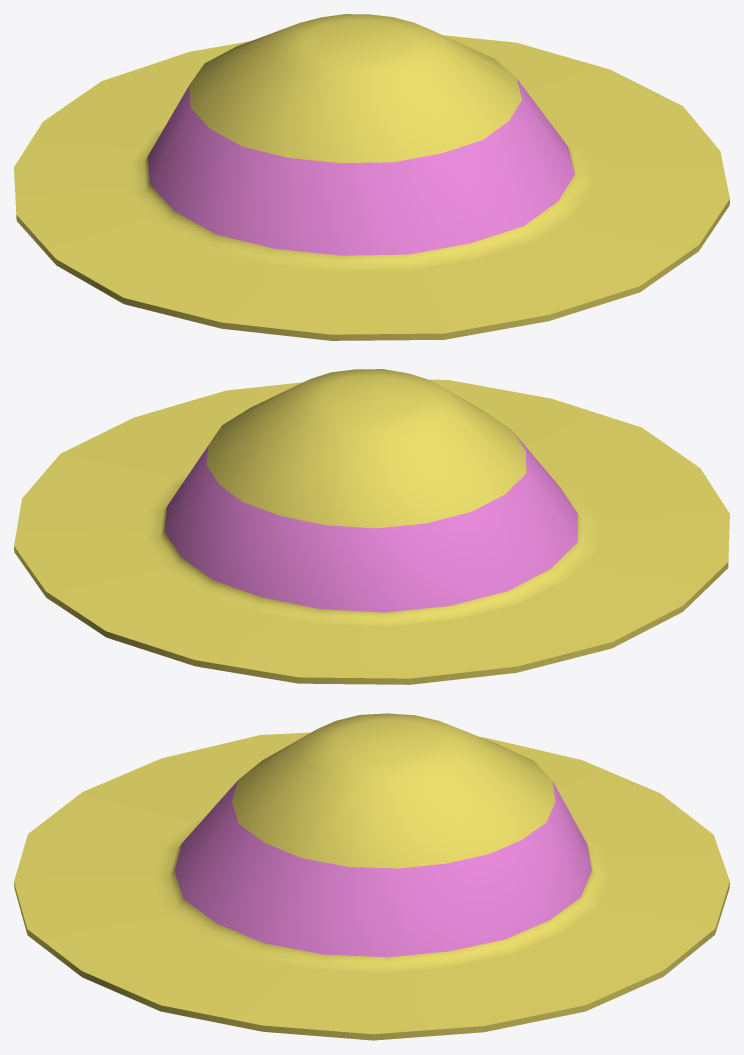
The model's file is Hat.fbx.
The picture shows the model from 3 angles, top to bottom: view 1: azimuth 30°, elevation 25°; view 2: azimuth 150°, elevation 25°; view 3: azimuth 270°, elevation 25°; orthographic projection.
Parts seen in each view (by area): view 1: pCone1; view 2: pCone1; view 3: pCone1.
Boxes of the visible parts, x1=… form: pCone1: x1=14, y1=14, x2=729, y2=340; pCone1: x1=14, y1=369, x2=729, y2=684; pCone1: x1=14, y1=713, x2=729, y2=1040.
Size of the model in its own units: 5.67 by 1.29 by 5.63.
